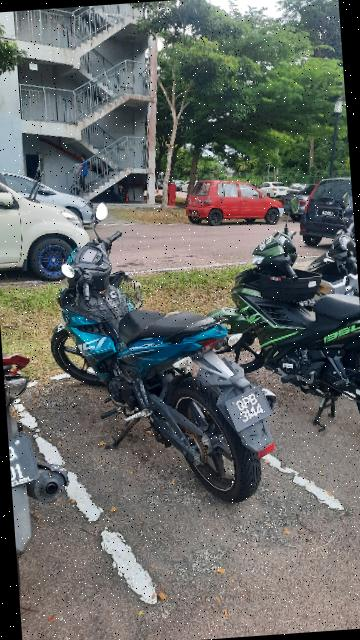License_Plate: (226, 384, 275, 433)
car: (1, 172, 101, 281), (182, 168, 285, 231), (296, 176, 355, 245)
motorcycle: (44, 190, 277, 516), (217, 195, 360, 433)
